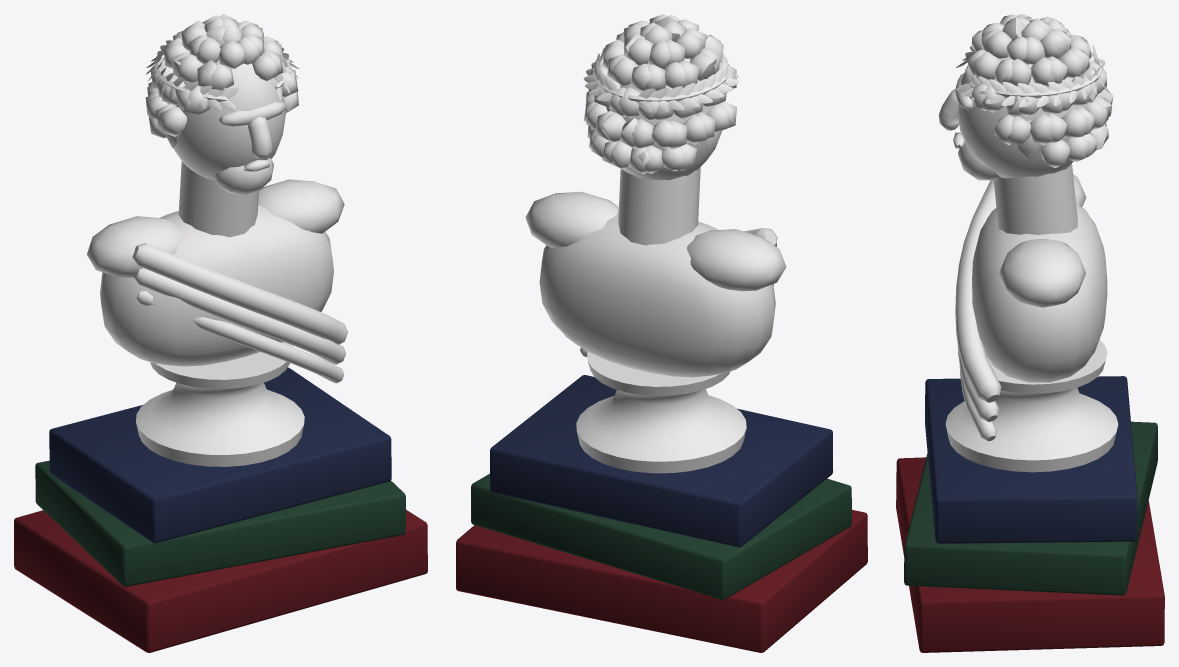
Rendered from bust_da.glb.
3 renders of one model, left to right at view 1: azimuth 30°, elevation 25°; view 2: azimuth 150°, elevation 25°; view 3: azimuth 270°, elevation 25°, orthographic.
Parts seen in each view (by area): view 1: plaster, cover, brass; view 2: cover, plaster, brass; view 3: plaster, cover, brass.
Part boxes in pixels (x1=…): plaster: x1=87, y1=14, x2=347, y2=466; cover: x1=14, y1=367, x2=427, y2=652; brass: x1=146, y1=40, x2=299, y2=111; cover: x1=456, y1=375, x2=867, y2=652; plaster: x1=525, y1=14, x2=786, y2=473; brass: x1=583, y1=47, x2=739, y2=112; plaster: x1=938, y1=14, x2=1118, y2=472; cover: x1=896, y1=376, x2=1164, y2=652; brass: x1=955, y1=44, x2=1105, y2=107.
Bounding box in the file's own units: 0.2495 × 0.429 × 0.1861.
